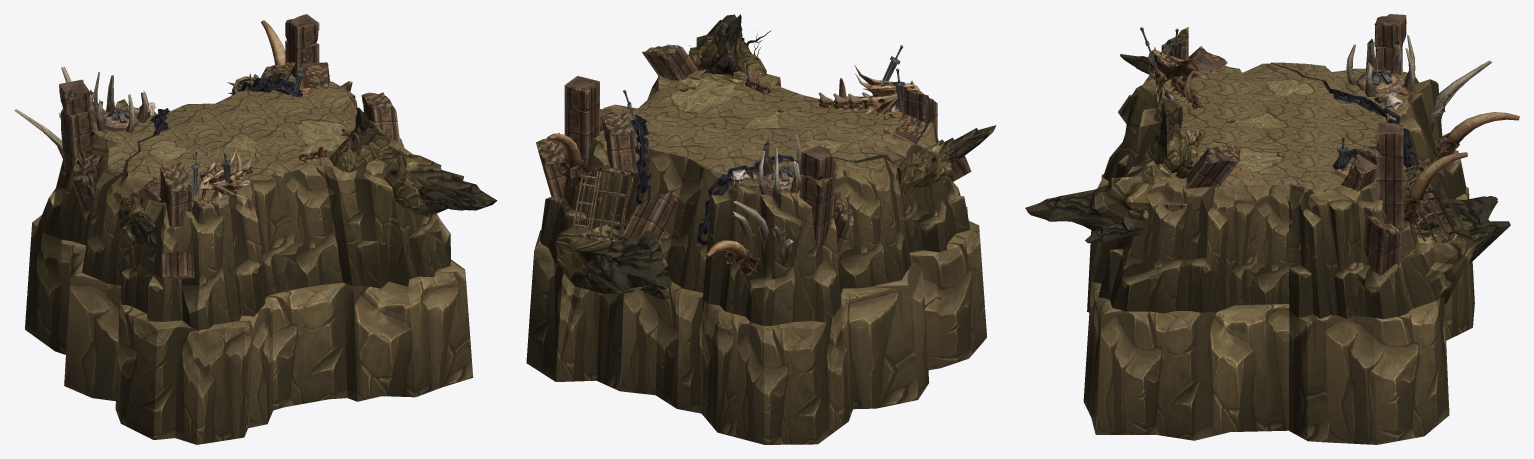
Rendered from cell4.fbx.
The picture shows the model from 3 angles, left to right: view 1: azimuth 30°, elevation 25°; view 2: azimuth 150°, elevation 25°; view 3: azimuth 270°, elevation 25°; orthographic projection. The views are drawn at different scales.
Visible parts, largest first — view 1: cell4; view 2: cell4; view 3: cell4.
Boxes of the visible parts, left/top/right/bottom form: cell4: left=14, top=14, right=497, bottom=444; cell4: left=526, top=14, right=996, bottom=444; cell4: left=1025, top=14, right=1519, bottom=444.
Bounding box in the file's own units: 20.28 × 15.52 × 23.99.
